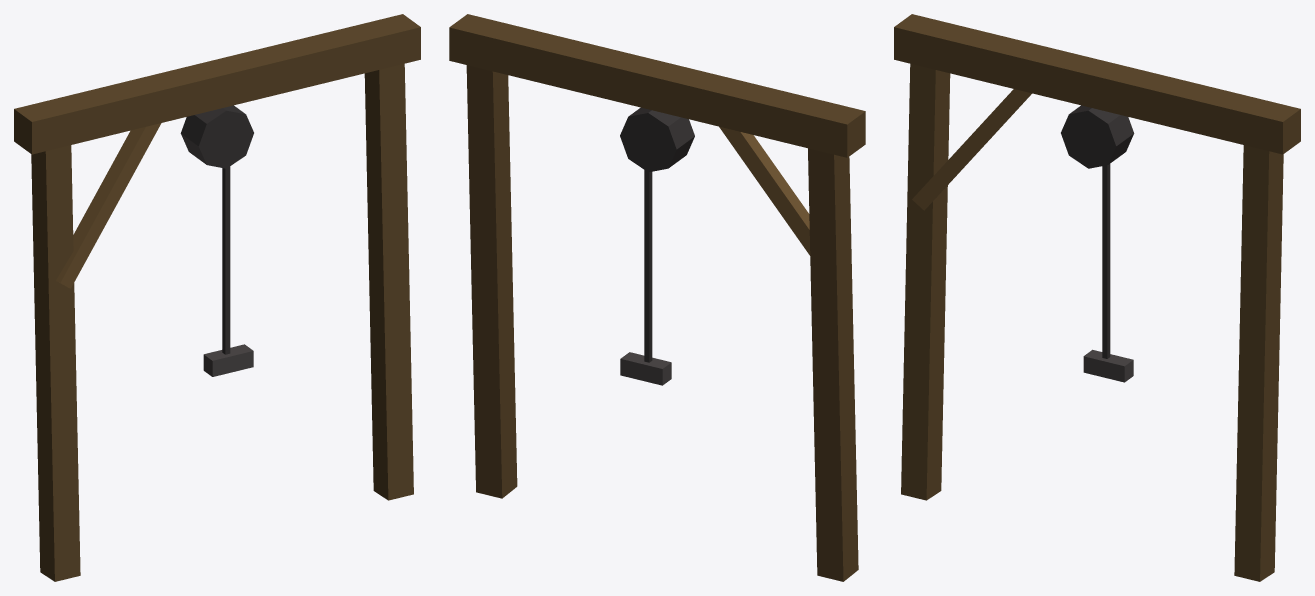
File: casting_hoist.glb
3 views of the same model, side by side, from view 1: azimuth 30°, elevation 25°; view 2: azimuth 150°, elevation 25°; view 3: azimuth 330°, elevation 25° (orthographic). The views are drawn at different scales.
Parts seen in each view (by area): view 1: casting_hoist; view 2: casting_hoist; view 3: casting_hoist.
Part boxes in pixels (x1,y1,x2,y2): casting_hoist: (14, 14, 420, 581); casting_hoist: (449, 14, 865, 581); casting_hoist: (894, 14, 1300, 581).
Bounding box in the file's own units: 3.5 × 3.94 × 0.4049.
